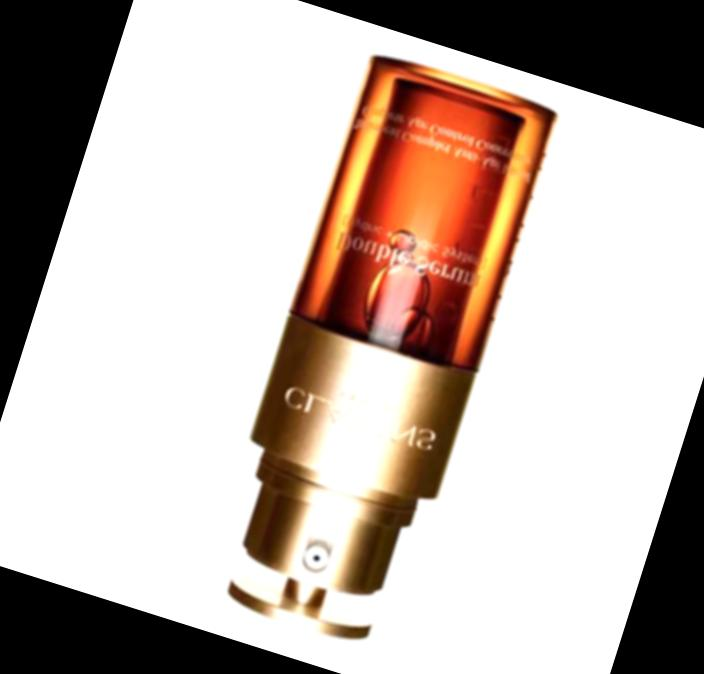cosmetic: (190, 52, 561, 664)
